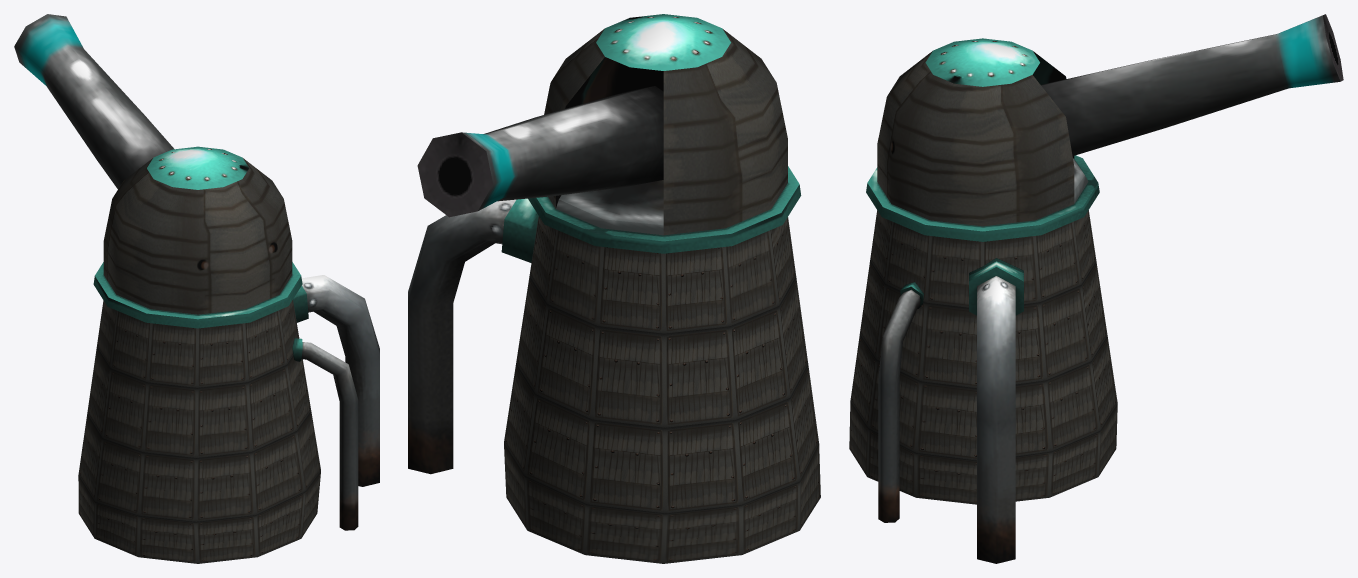
Rendered from turretMissile.fbx.
The picture shows the model from 3 angles, left to right: view 1: azimuth 30°, elevation 25°; view 2: azimuth 150°, elevation 25°; view 3: azimuth 270°, elevation 25°; orthographic projection. The views are drawn at different scales.
Parts seen in each view (by area): view 1: turretMissileBottom, turretMissileTop; view 2: turretMissileBottom, turretMissileTop; view 3: turretMissileBottom, turretMissileTop.
Part boxes in pixels (box(x1,y1,x2,y2)): turretMissileBottom: box(78, 262, 379, 563); turretMissileTop: box(14, 14, 292, 314); turretMissileBottom: box(408, 166, 820, 563); turretMissileTop: box(417, 14, 787, 235); turretMissileBottom: box(849, 155, 1117, 563); turretMissileTop: box(877, 14, 1343, 226).
Size of the model in its own units: 5.63 by 7.38 by 7.4.
1 material, 1 textured.
